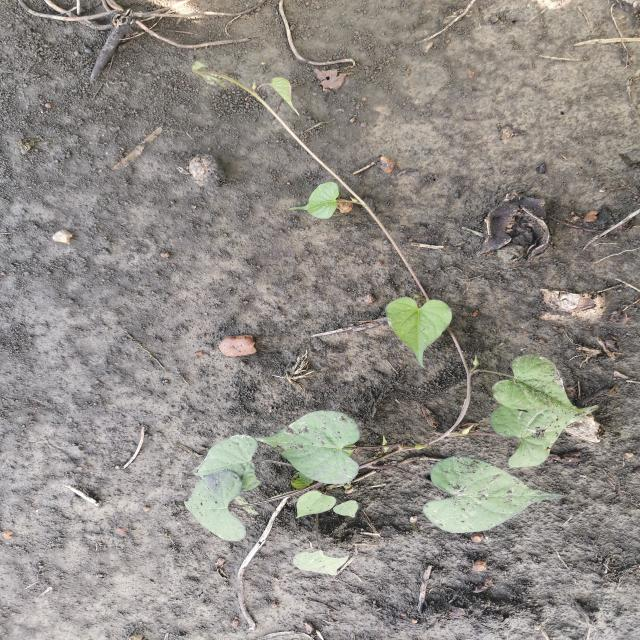MorningGlory: (180, 58, 600, 579)
